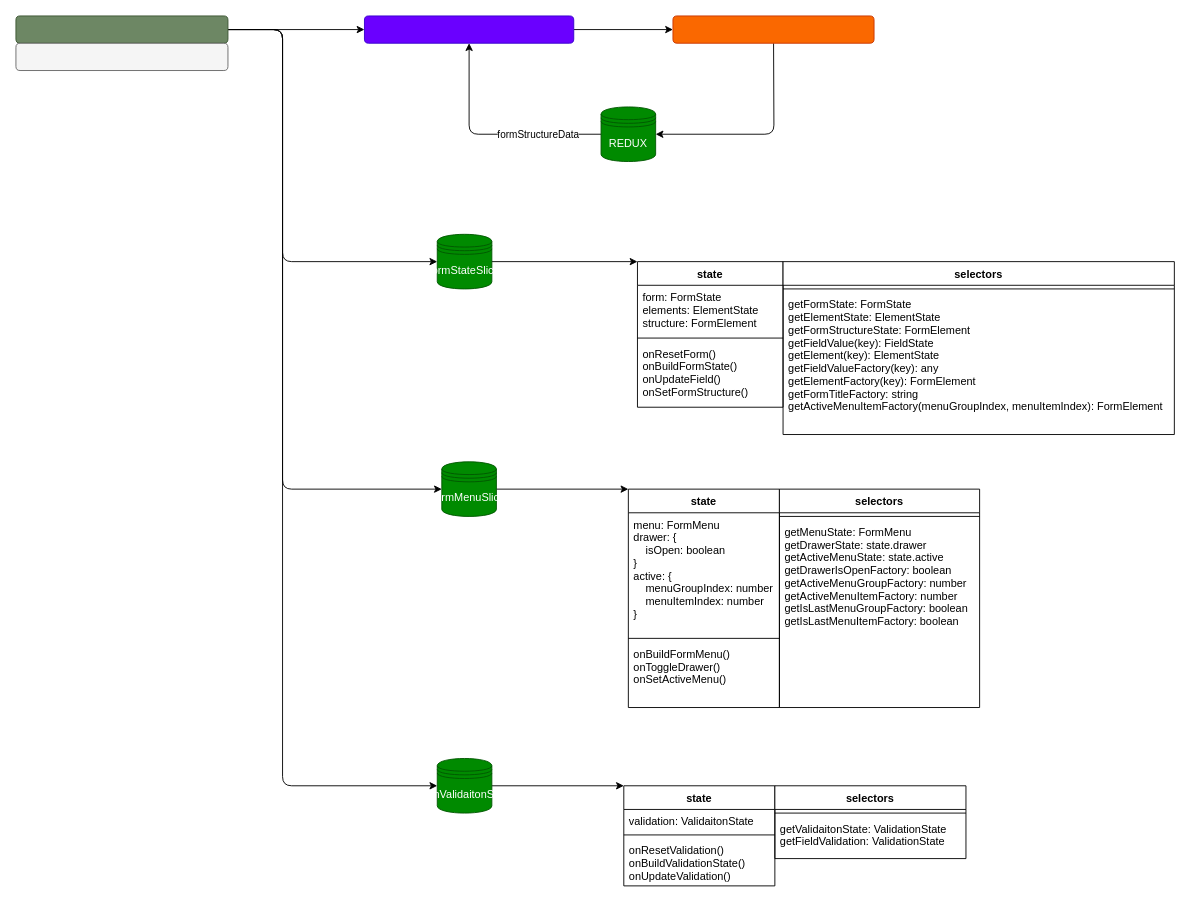
This 1190x905 diagram has some shape labels left out. The centre of each missing label's shape, as x and y in pixels:
/registration/requirements/:user_type/:id: the point at 121,29
MOCKED_SERVICE_FOR_NOW: the point at 773,29
useFetchFormStructureQuery(): the point at 469,29
user_type = 'athlete' | 'staff': the point at 121,56
